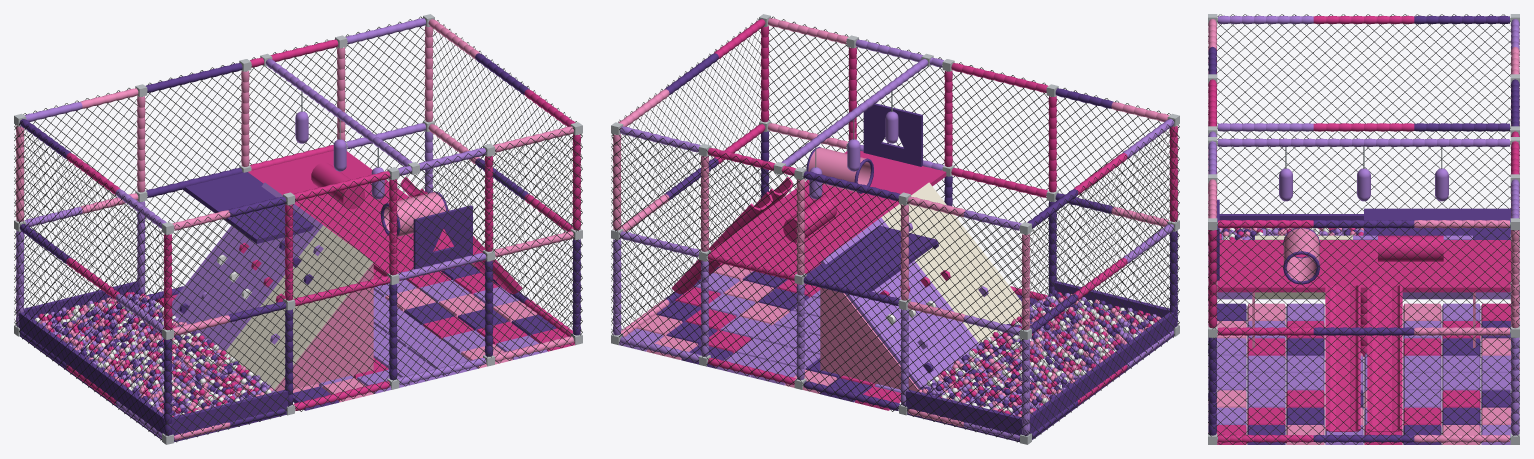
File: web.glb
The picture shows the model from 3 angles, left to right: view 1: azimuth 30°, elevation 25°; view 2: azimuth 150°, elevation 25°; view 3: azimuth 270°, elevation 25°; orthographic projection. The views are drawn at different scales.
Visible parts, largest first — view 1: rede, isotubo, plataforma, piso, bolinhas, acolchoado, metal, plastico; view 2: rede, isotubo, plataforma, piso, bolinhas, acolchoado, metal, plastico; view 3: piso, rede, isotubo, plataforma, plastico, acolchoado, metal, bolinhas.
Boxes of the visible parts, x1,y1,x2,y2 form: rede: (14,16,582,442); isotubo: (16,18,580,440); plataforma: (171,151,484,391); piso: (156,264,574,410); bolinhas: (32,289,275,416); acolchoado: (16,111,447,442); metal: (14,14,582,444); plastico: (179,177,522,344); rede: (611,16,1179,442); isotubo: (613,18,1177,440); plataforma: (709,103,1022,391); piso: (619,264,1037,410); bolinhas: (917,290,1161,416); acolchoado: (783,111,1177,442); metal: (611,14,1179,444); plastico: (671,177,988,373); piso: (1208,303,1519,444); rede: (1208,14,1519,444); isotubo: (1208,15,1519,443); plataforma: (1216,199,1511,347); plastico: (1325,284,1402,431); acolchoado: (1217,168,1510,299); metal: (1208,14,1519,444); bolinhas: (1219,228,1363,239).
Bounding box in the file's own units: 6 × 3 × 3.8.
Materials: 8 (8 with a texture image).
